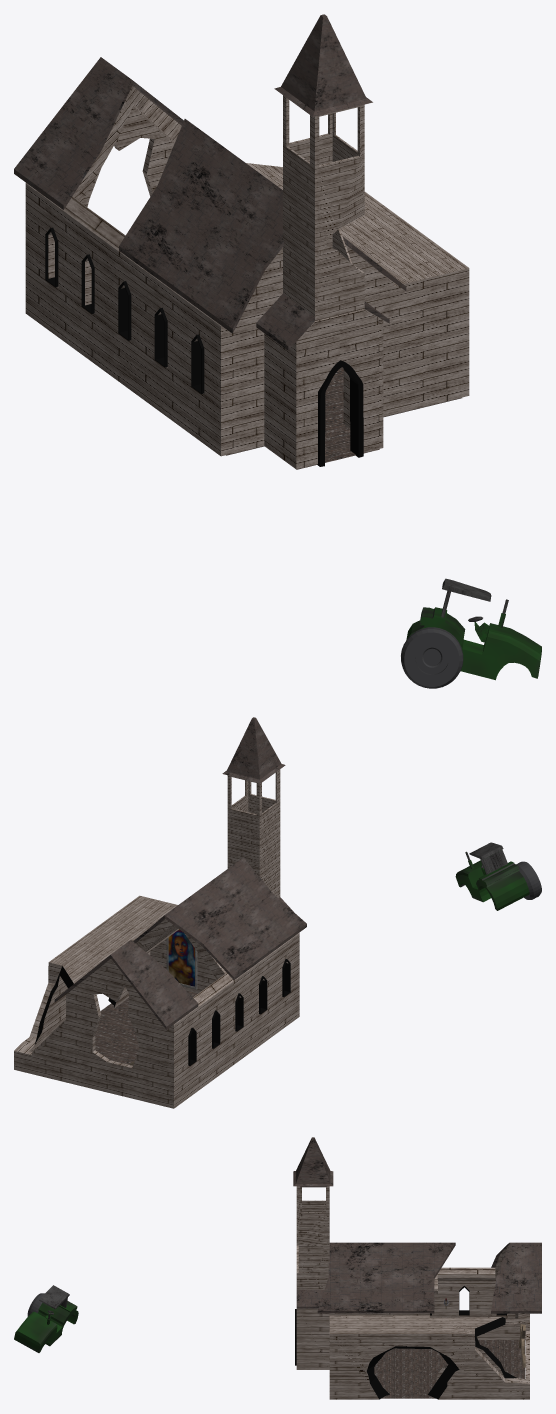
The model's file is Iglesia.obj.
3 views of the same model, one above another, from view 1: azimuth 30°, elevation 25°; view 2: azimuth 150°, elevation 25°; view 3: azimuth 270°, elevation 25° (orthographic). The views are drawn at different scales.
Parts seen in each view (by area): view 1: Cube_Cube.002, Cube.003_Cube.001, Cube.002_Cube.001, Plane.005, Marco_Plane.002, Circle.002, Plane.001, Cube.004_Cube.001, Circle.001; view 2: Cube_Cube.002, Cube.003_Cube.001, Cube.002_Cube.001, Plane.005, Plane.001, Marco_Plane.002, Plane_Plane.002, Cube.001_Cube.002, Circle.002; view 3: Cube_Cube.002, Cube.003_Cube.001, Cube.002_Cube.001, Plane.001, Plane.005, Cube.004_Cube.001, Cube.001_Cube.002.
Part boxes in pixels (x1,y1,x2,y2): Cube_Cube.002: (25, 86, 469, 468); Cube.003_Cube.001: (14, 57, 406, 333); Cube.002_Cube.001: (274, 14, 372, 320); Plane.005: (406, 607, 541, 680); Marco_Plane.002: (45, 227, 204, 394); Circle.002: (401, 627, 463, 688); Plane.001: (226, 367, 461, 469); Cube.004_Cube.001: (256, 294, 389, 350); Circle.001: (317, 360, 363, 466); Cube_Cube.002: (14, 895, 299, 1108); Cube.003_Cube.001: (54, 857, 306, 1029); Cube.002_Cube.001: (222, 717, 285, 897); Plane.005: (455, 860, 529, 910); Plane.001: (95, 991, 197, 1064); Marco_Plane.002: (188, 959, 290, 1065); Plane_Plane.002: (166, 929, 197, 989); Cube.001_Cube.002: (469, 842, 507, 874); Circle.002: (516, 861, 541, 899); Cube_Cube.002: (296, 1246, 529, 1399); Cube.003_Cube.001: (317, 1242, 541, 1313); Cube.002_Cube.001: (293, 1137, 333, 1289); Plane.001: (374, 1340, 525, 1398); Plane.005: (14, 1301, 78, 1352); Cube.004_Cube.001: (296, 1289, 324, 1308); Cube.001_Cube.002: (39, 1285, 69, 1309).
Size of what is drawn, in the model's own units: 12.17 by 15.07 by 31.44.
